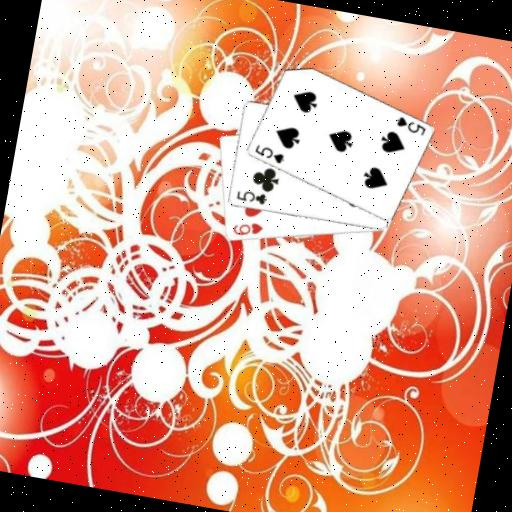5C: (232, 186, 268, 207)
5S: (391, 112, 429, 137), (249, 141, 286, 166)
6H: (228, 216, 264, 241)
